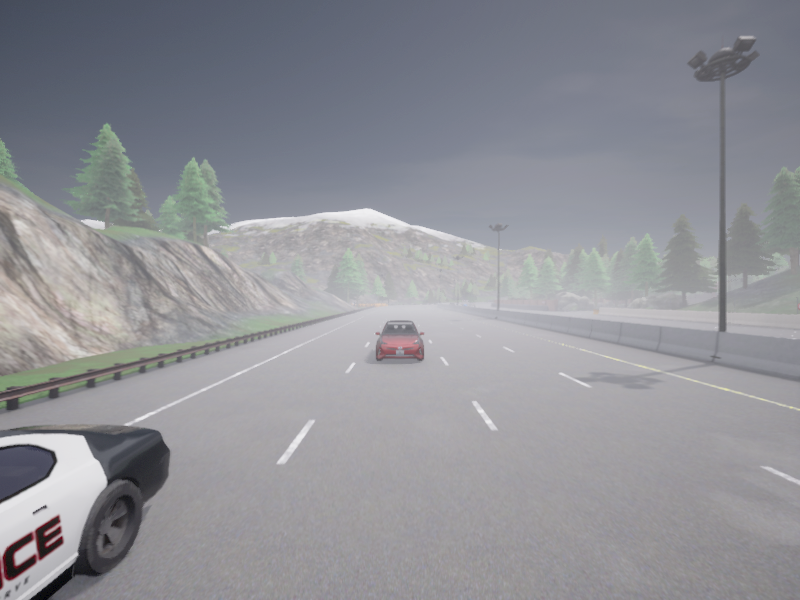vehicle: (0, 424, 170, 599), (375, 320, 424, 361), (462, 300, 468, 305), (469, 302, 474, 306), (463, 303, 466, 305), (450, 303, 454, 304)
